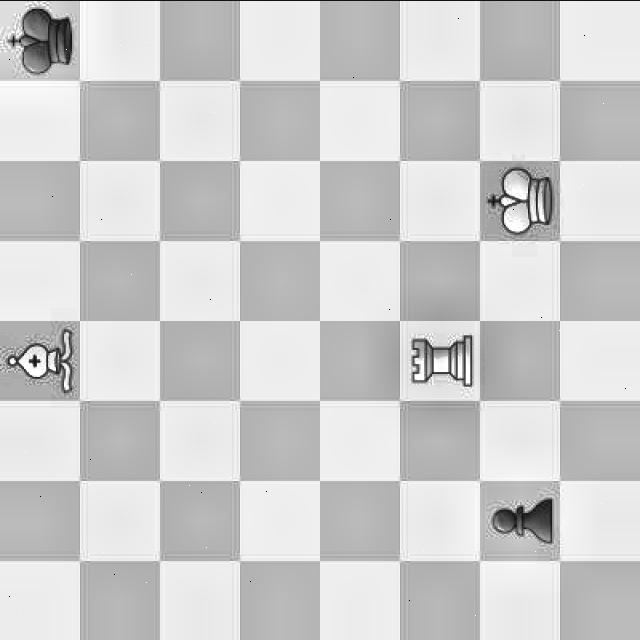black king: (0, 1, 78, 74)
black pawn: (486, 488, 556, 556)
white bishop: (1, 326, 77, 394)
white king: (486, 163, 554, 237)
white rook: (398, 317, 474, 398)
